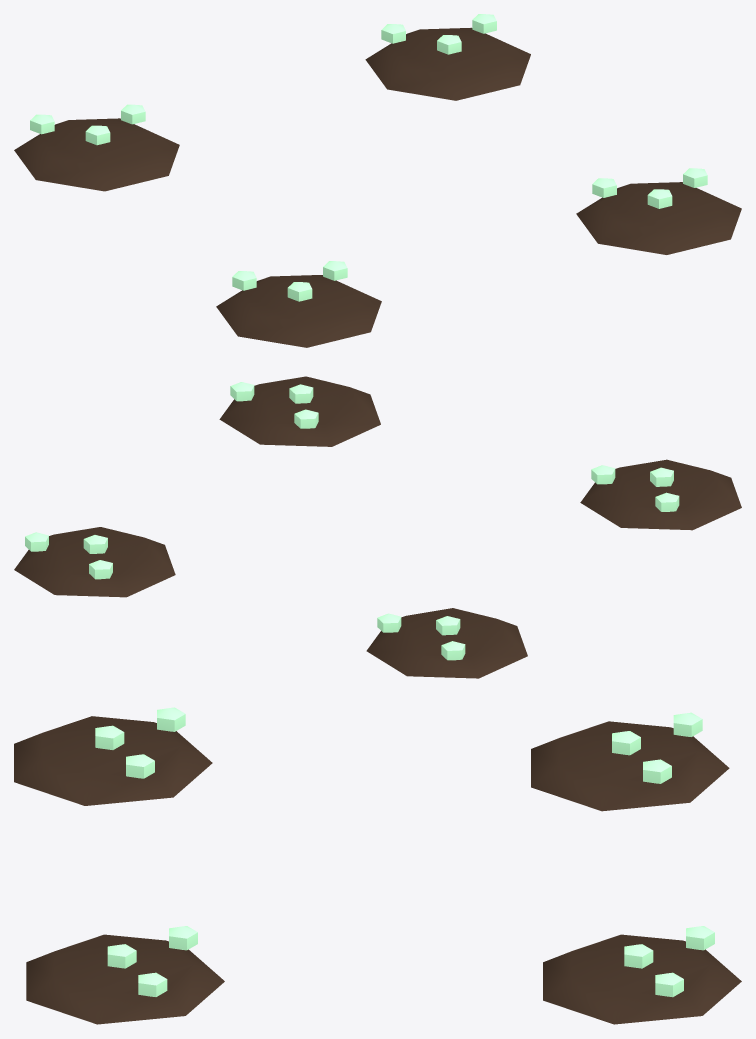
The model's file is crop_mushroom_s1.glb.
The picture shows the model from 3 angles, top to bottom: view 1: azimuth 30°, elevation 25°; view 2: azimuth 150°, elevation 25°; view 3: azimuth 270°, elevation 25°; orthographic projection. The views are drawn at different scales.
Visible parts, largest first — view 1: crop_mushroom_s1; view 2: crop_mushroom_s1; view 3: crop_mushroom_s1.
Boxes of the visible parts, bbox=[...] form: crop_mushroom_s1: bbox=[14, 14, 741, 347]; crop_mushroom_s1: bbox=[14, 376, 741, 678]; crop_mushroom_s1: bbox=[14, 707, 741, 1024].
Bounding box in the file's own units: 1.17 × 0.066 × 1.18.
